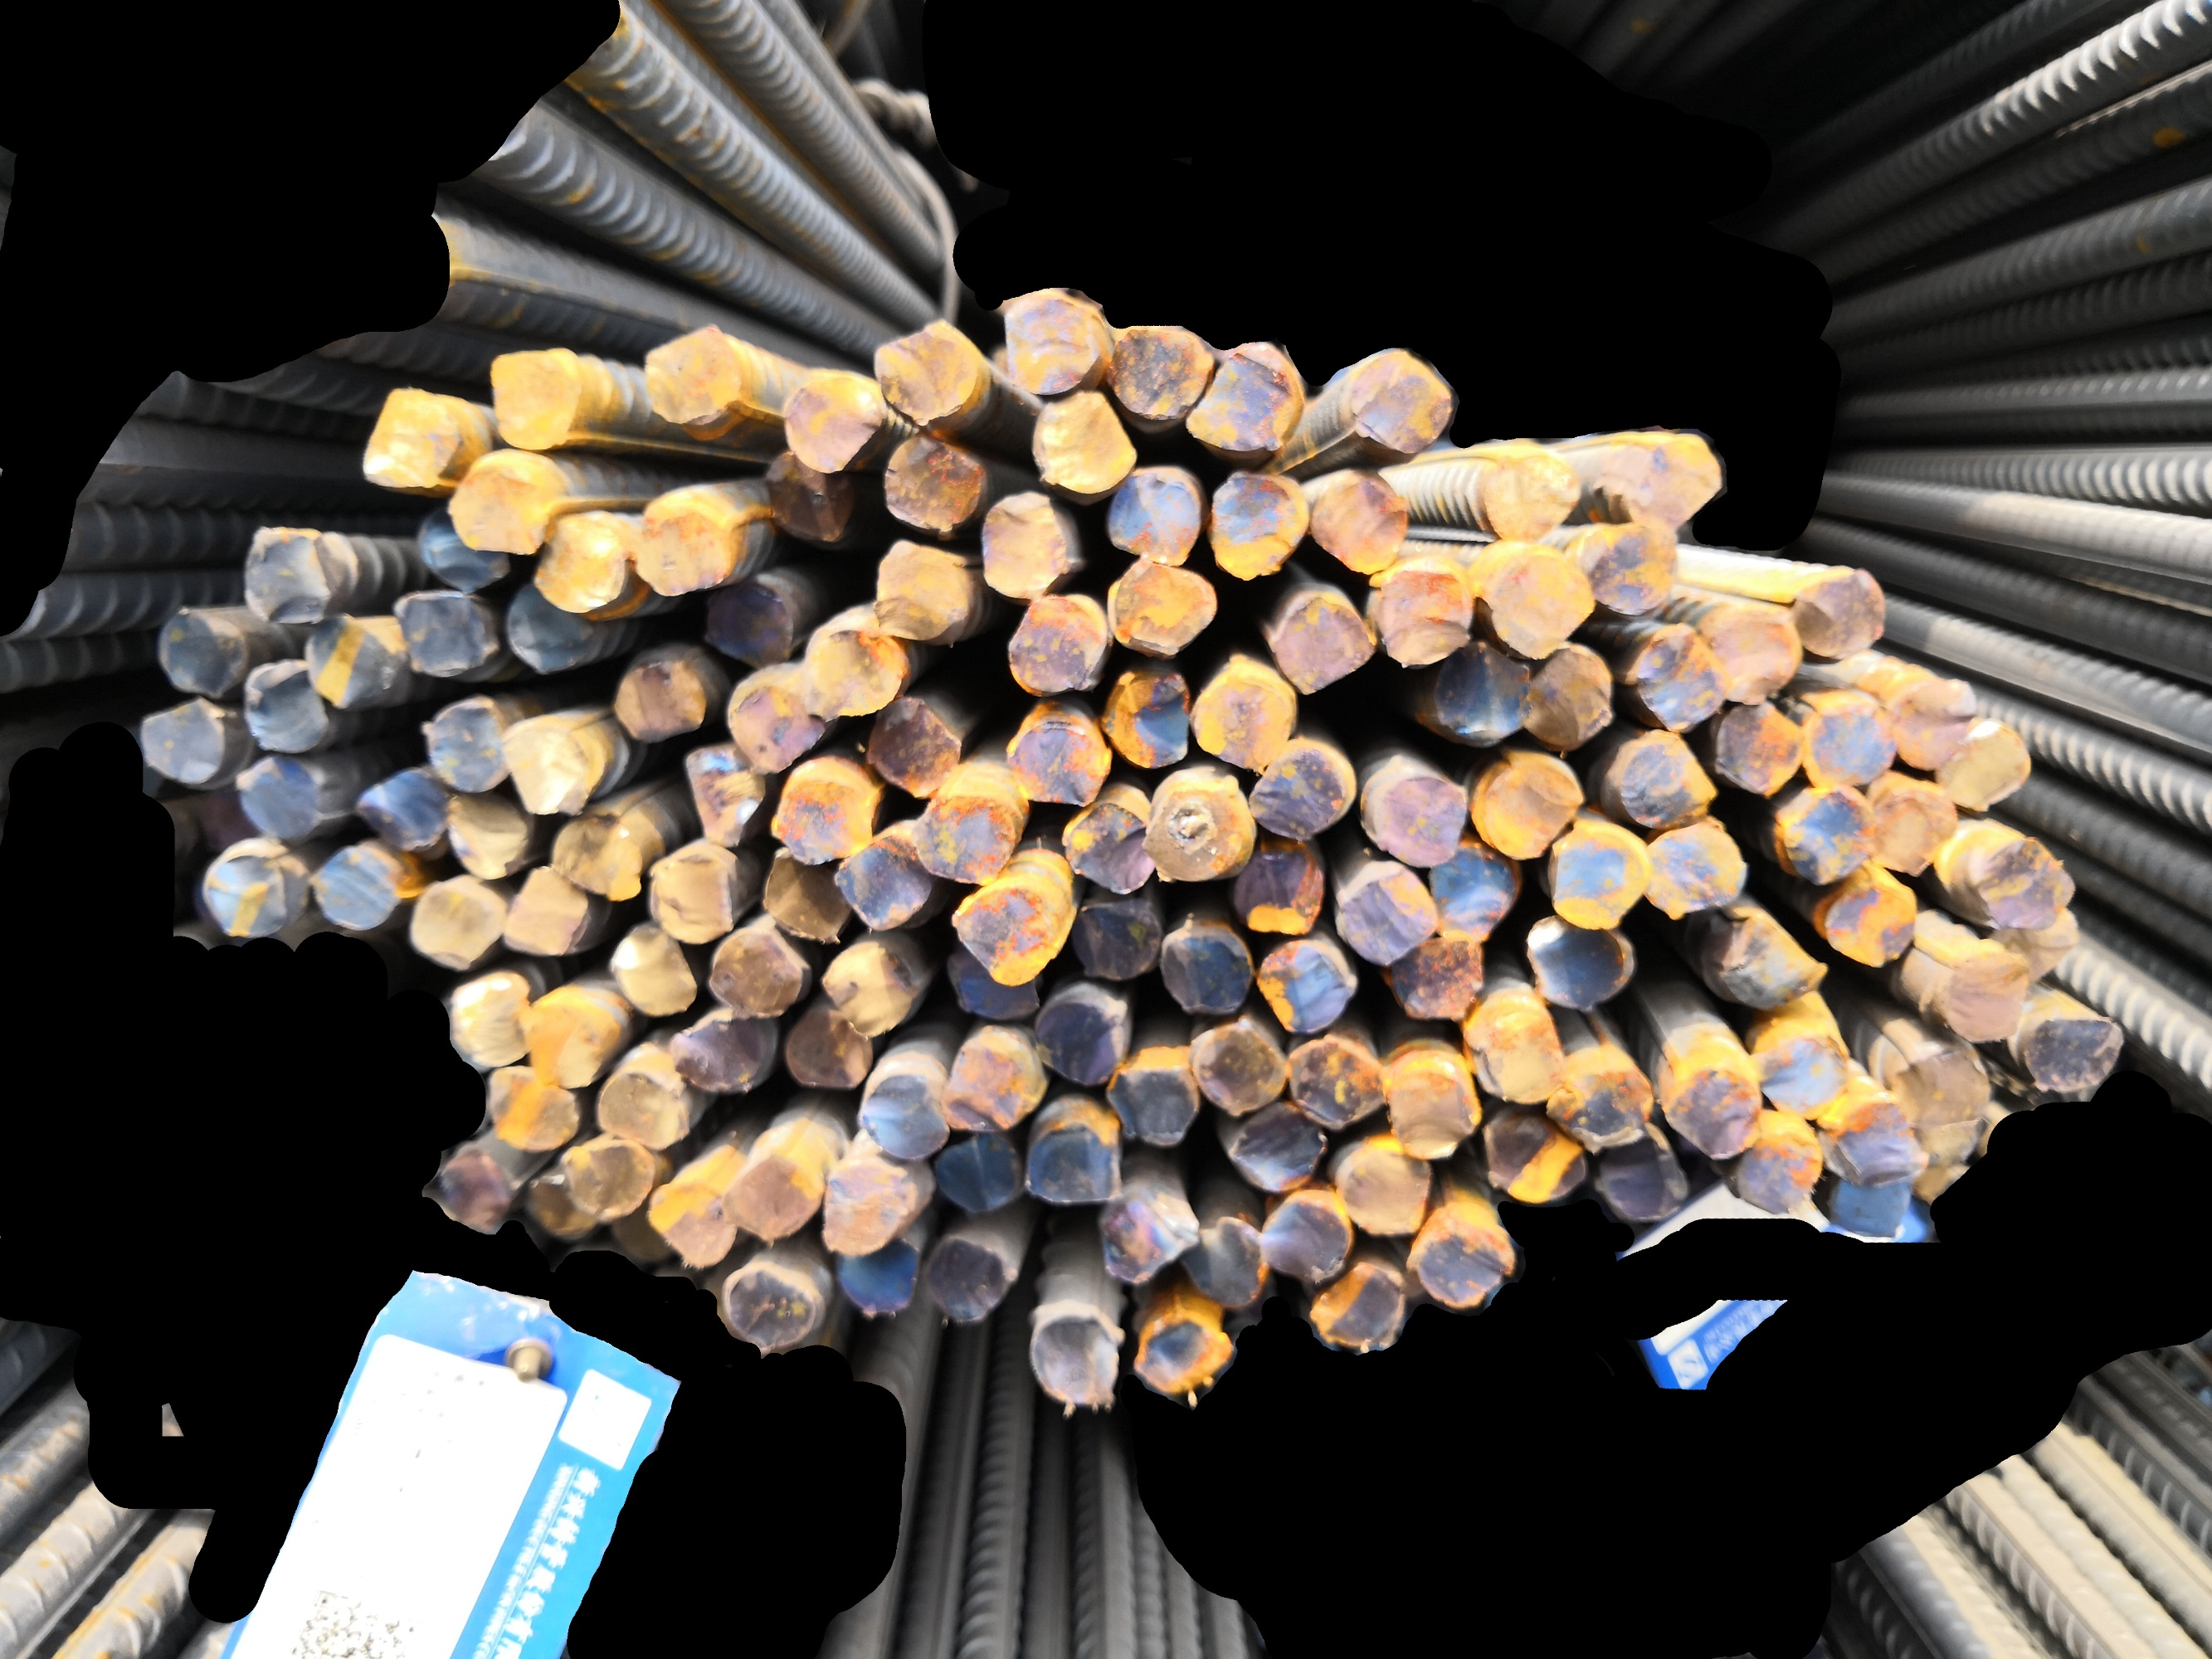rebar: (1175, 338, 1311, 464), (948, 864, 1077, 985), (1633, 803, 1747, 929), (1471, 748, 1591, 864), (995, 277, 1110, 399), (1185, 653, 1300, 775), (1473, 544, 1597, 657), (1140, 767, 1255, 887), (866, 315, 985, 430), (1323, 856, 1442, 971), (1361, 552, 1478, 667), (350, 380, 469, 493), (1708, 897, 1829, 1009), (1262, 582, 1377, 697), (1602, 422, 1727, 526), (1541, 823, 1654, 938), (474, 345, 594, 453), (912, 777, 1032, 885), (1618, 617, 1726, 737), (981, 483, 1082, 610), (1098, 552, 1218, 659), (1105, 317, 1217, 430), (791, 612, 908, 720), (1243, 739, 1361, 845), (1602, 723, 1720, 829), (1886, 1023, 1998, 1134), (633, 322, 746, 432), (1032, 385, 1140, 500), (1475, 1101, 1590, 1209), (777, 361, 884, 477), (1208, 469, 1314, 586), (195, 836, 305, 948), (1361, 762, 1471, 873), (1471, 437, 1583, 547), (1417, 636, 1532, 742), (446, 453, 563, 558), (1457, 995, 1567, 1105), (1527, 910, 1637, 1019), (1964, 828, 2074, 938), (492, 713, 603, 821), (506, 985, 617, 1093), (631, 491, 743, 599), (1347, 342, 1452, 457), (1089, 1190, 1206, 1293), (1694, 594, 1802, 704), (1001, 589, 1105, 702), (1755, 1000, 1856, 1117), (877, 432, 995, 532), (1325, 1134, 1431, 1244), (1654, 1051, 1761, 1161), (1304, 467, 1410, 577), (1785, 554, 1890, 666), (1511, 634, 1614, 748), (1862, 765, 1959, 884), (814, 1157, 919, 1267), (861, 688, 966, 798), (432, 964, 535, 1075), (868, 533, 971, 645), (1379, 1049, 1482, 1161), (1407, 1215, 1520, 1316), (492, 580, 608, 678), (1295, 1258, 1412, 1356), (1809, 866, 1926, 964), (1771, 779, 1877, 885), (302, 606, 406, 714), (1930, 939, 2038, 1044), (396, 871, 506, 974), (711, 1260, 821, 1363), (1935, 709, 2038, 819), (661, 1007, 784, 1098), (828, 829, 933, 936), (1102, 462, 1206, 568), (1792, 685, 1898, 789), (526, 509, 629, 617), (1002, 709, 1110, 812), (383, 589, 504, 681), (1032, 979, 1133, 1089), (1710, 1117, 1823, 1215), (544, 807, 650, 910), (2025, 1004, 2128, 1110), (1883, 667, 1985, 774), (1252, 938, 1360, 1039), (1025, 1305, 1124, 1415), (769, 763, 879, 863), (821, 939, 924, 1044), (1415, 836, 1522, 938), (1185, 1019, 1295, 1117), (492, 863, 593, 967), (941, 1026, 1048, 1126), (1154, 915, 1253, 1021), (640, 1175, 743, 1276), (1829, 1089, 1930, 1192), (727, 666, 824, 772), (1584, 514, 1680, 622), (1548, 1053, 1652, 1150), (1100, 666, 1194, 774), (1706, 692, 1801, 800), (1281, 1032, 1391, 1124), (239, 526, 340, 626), (612, 647, 709, 749), (1222, 1103, 1327, 1199), (720, 1147, 826, 1241), (675, 741, 769, 847), (706, 924, 805, 1023), (239, 655, 336, 756), (708, 570, 804, 673), (758, 444, 852, 549), (228, 755, 336, 845), (1130, 1314, 1239, 1403), (779, 999, 877, 1098), (919, 1236, 1020, 1331), (755, 849, 851, 950), (1060, 791, 1154, 894), (148, 603, 253, 695), (1382, 934, 1487, 1026), (640, 849, 739, 945), (856, 1070, 952, 1169), (479, 1060, 580, 1152), (589, 1061, 690, 1154), (415, 697, 511, 793), (436, 788, 533, 882), (605, 920, 697, 1019), (310, 840, 404, 936), (1259, 1192, 1353, 1288), (1236, 843, 1328, 941), (350, 765, 450, 856), (926, 1126, 1025, 1216), (1063, 896, 1164, 985), (1584, 1136, 1686, 1225), (1182, 1211, 1267, 1316), (134, 697, 227, 793), (831, 1232, 931, 1321), (1021, 1119, 1123, 1206), (554, 1134, 657, 1220), (938, 945, 1042, 1026), (1109, 1051, 1194, 1150), (1991, 901, 2090, 985), (424, 1145, 514, 1236), (408, 512, 511, 587), (523, 1169, 605, 1248), (1830, 1175, 1916, 1244), (1921, 1110, 1991, 1175), (603, 1202, 669, 1263)
